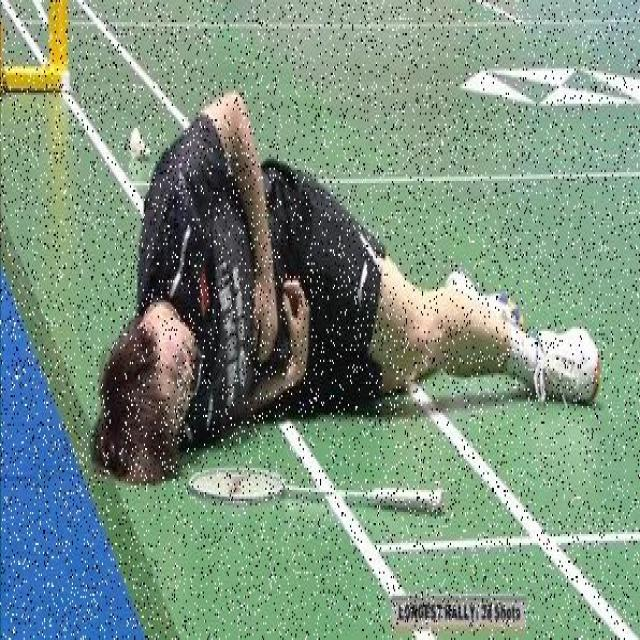fall: (94, 154, 593, 482)
